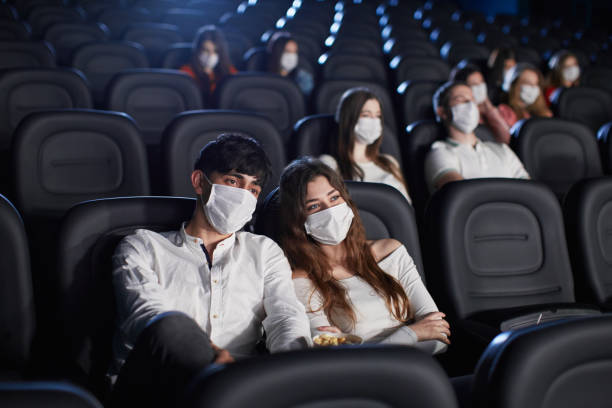with mask: (193, 139, 267, 250), (280, 157, 356, 254), (337, 88, 390, 144), (431, 85, 480, 137), (267, 37, 308, 78), (193, 28, 227, 76), (459, 66, 497, 104), (511, 67, 543, 105), (550, 49, 583, 84)
